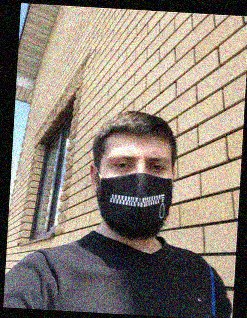with_mask: (96, 144, 176, 240)
